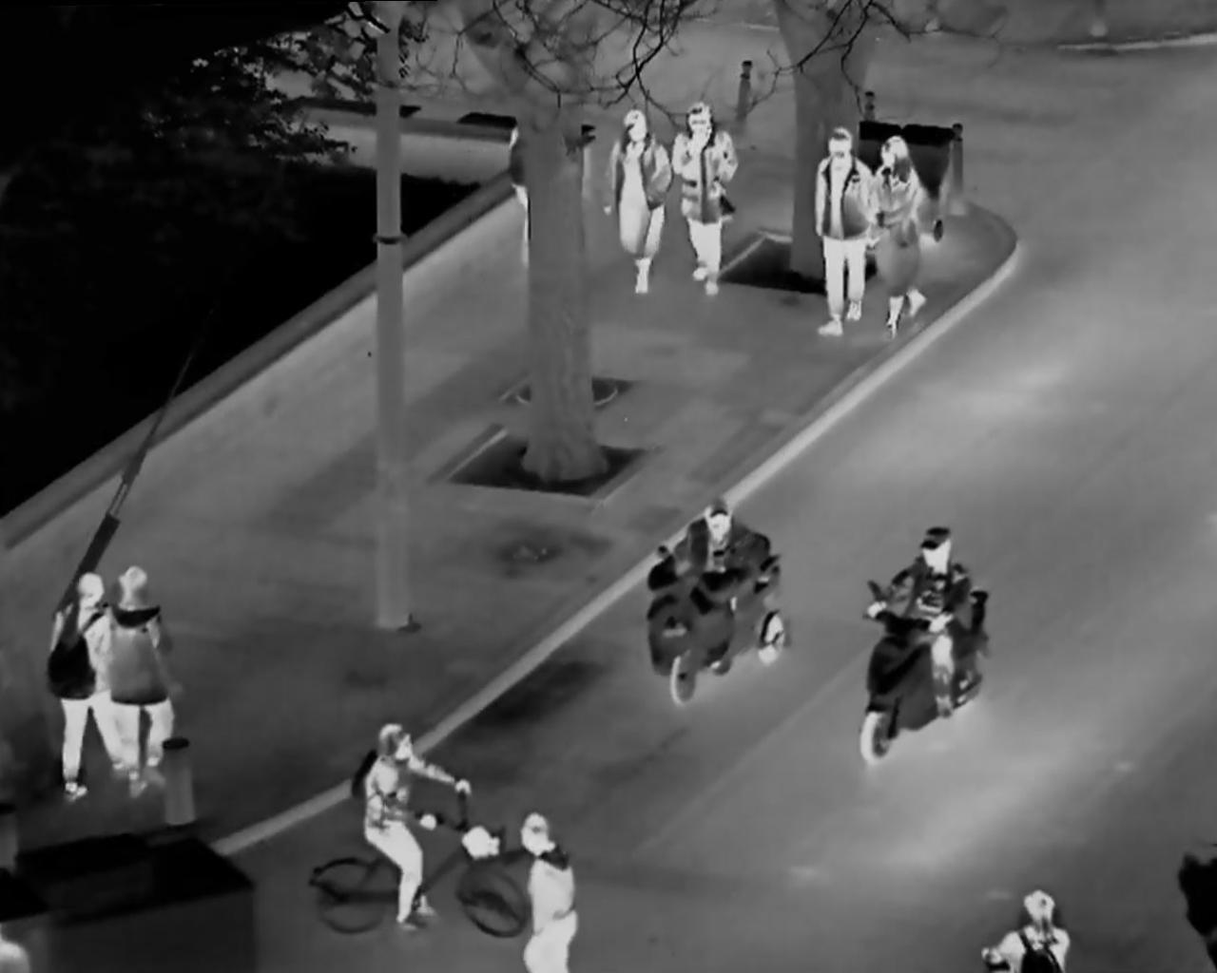person: (647, 486, 777, 701), (865, 523, 984, 748), (337, 714, 451, 941), (40, 567, 121, 796), (107, 553, 181, 790), (599, 88, 674, 300), (668, 84, 740, 300), (811, 115, 876, 347), (512, 790, 575, 973), (981, 871, 1078, 973), (878, 131, 925, 338)
